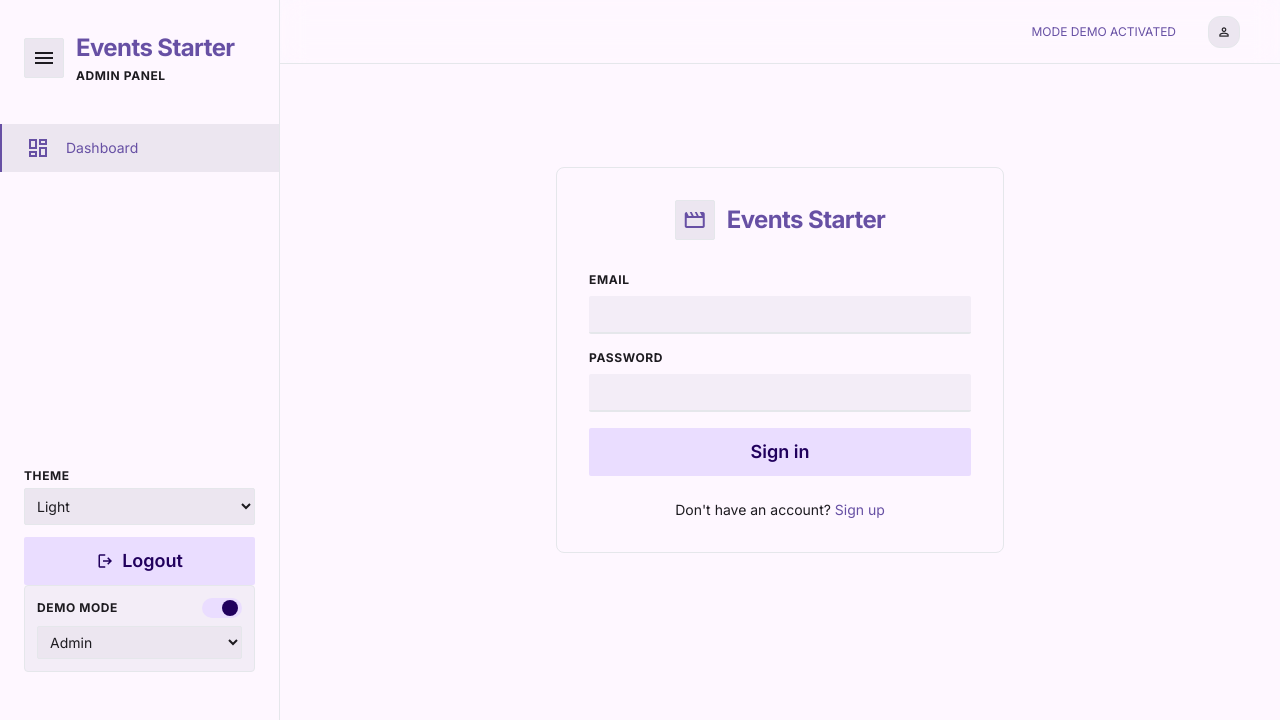
Test: App › login › failed login shows error message
Type "wrong@example.com" into the field at (780, 315), box [589,296,971,334]
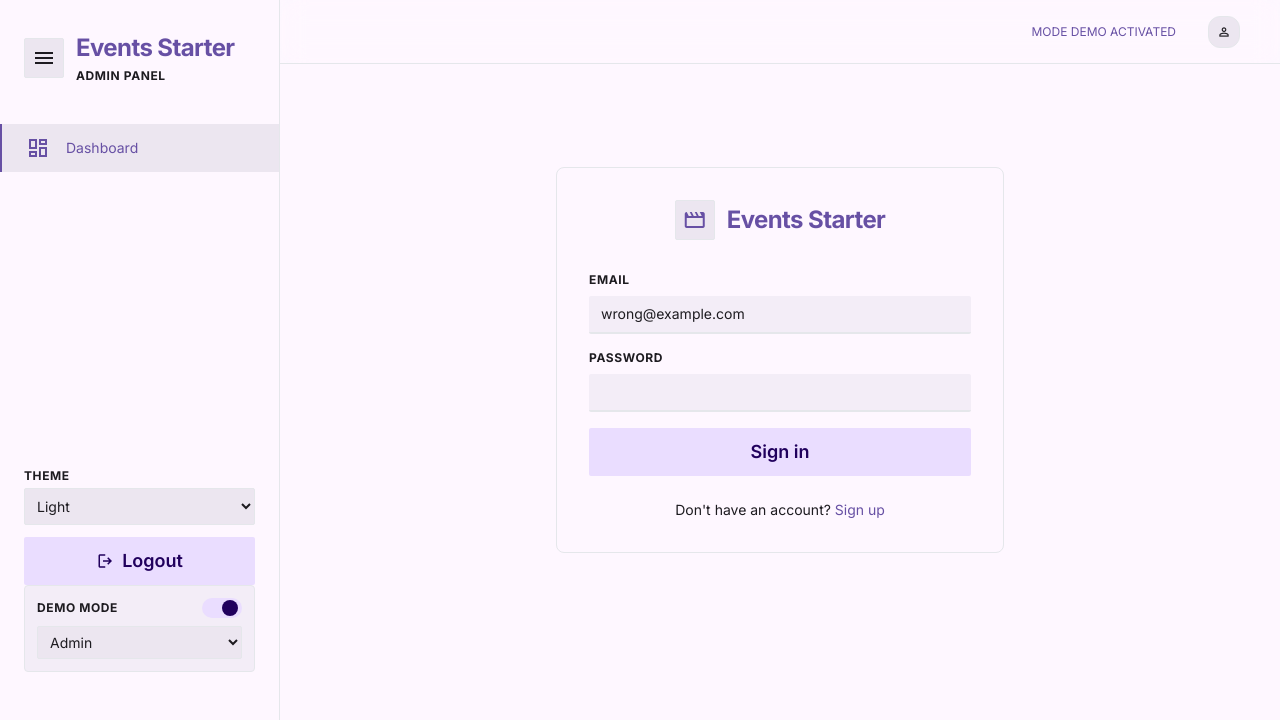
Type "wrongpass" into the password field at (780, 393), box [589,374,971,412]
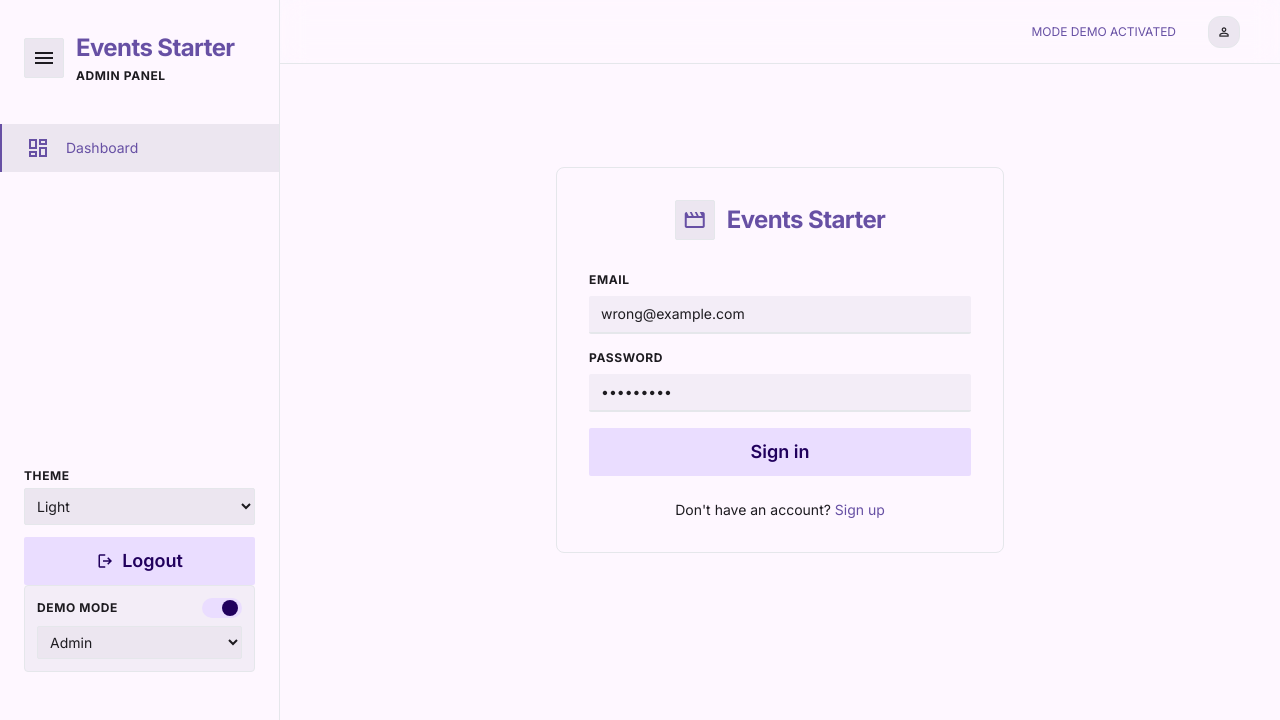
Click the button "Sign in" at (780, 452), box [589,428,971,476]
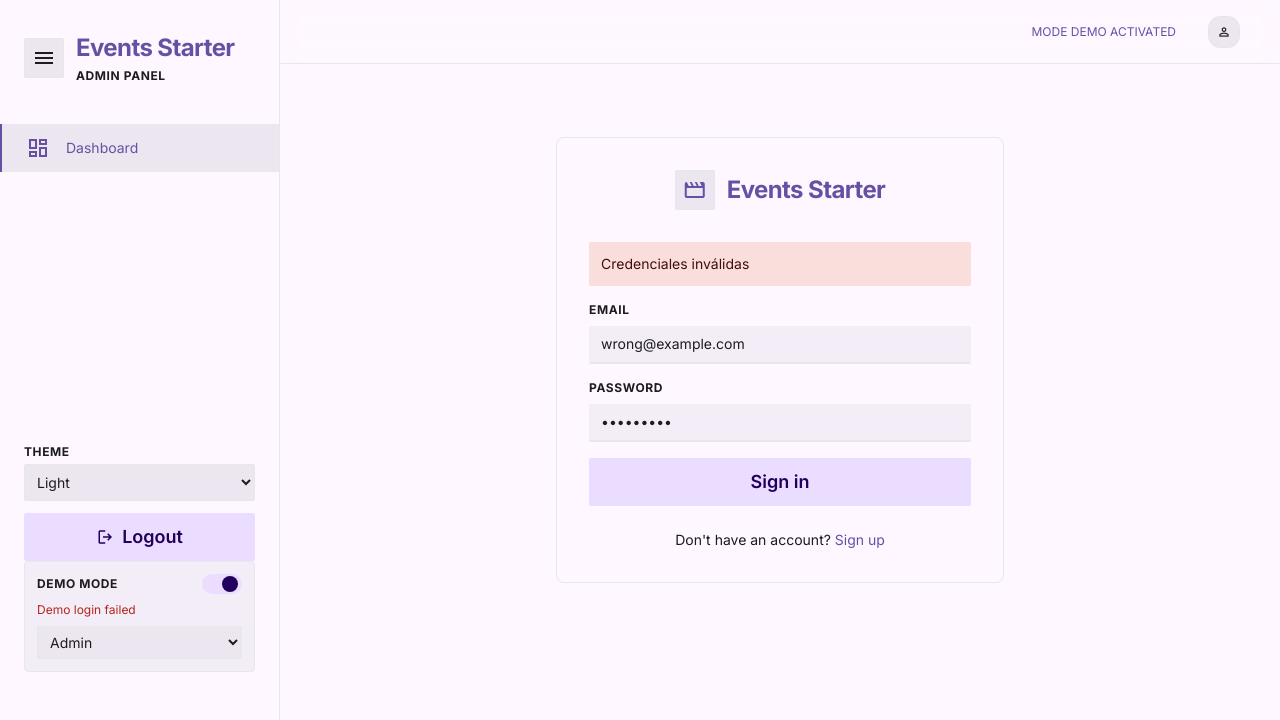
Expected: the text "Credenciales inválidas" is shown, [589,242,971,286]
